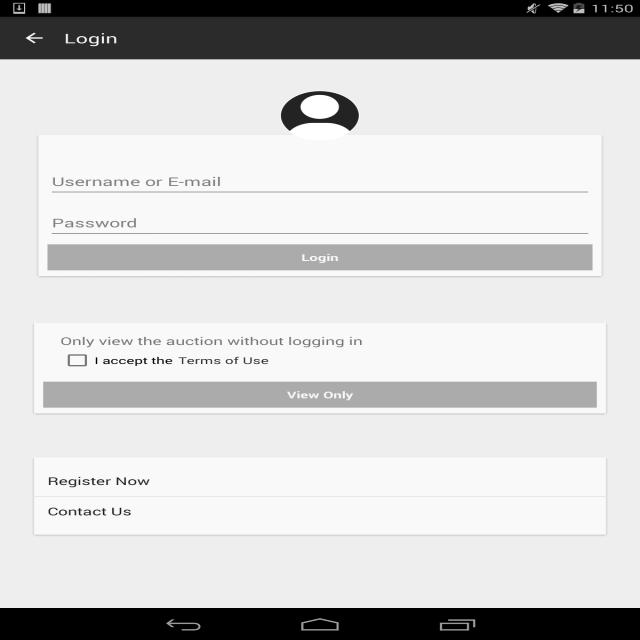CheckBox: (60, 350, 173, 371)
EditText: (48, 167, 592, 198), (48, 209, 592, 239)
ImageButton: (0, 19, 60, 57)
ImageView: (280, 90, 360, 141)
TextView: (43, 382, 597, 408), (48, 244, 592, 270), (52, 328, 371, 354), (47, 474, 150, 488), (47, 504, 132, 518), (178, 354, 269, 367), (64, 29, 118, 47)
